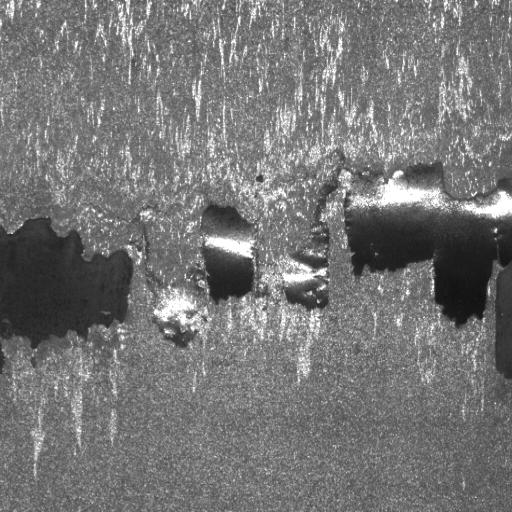qiaopi: (282, 156, 512, 324), (3, 214, 134, 354), (149, 204, 262, 345)
